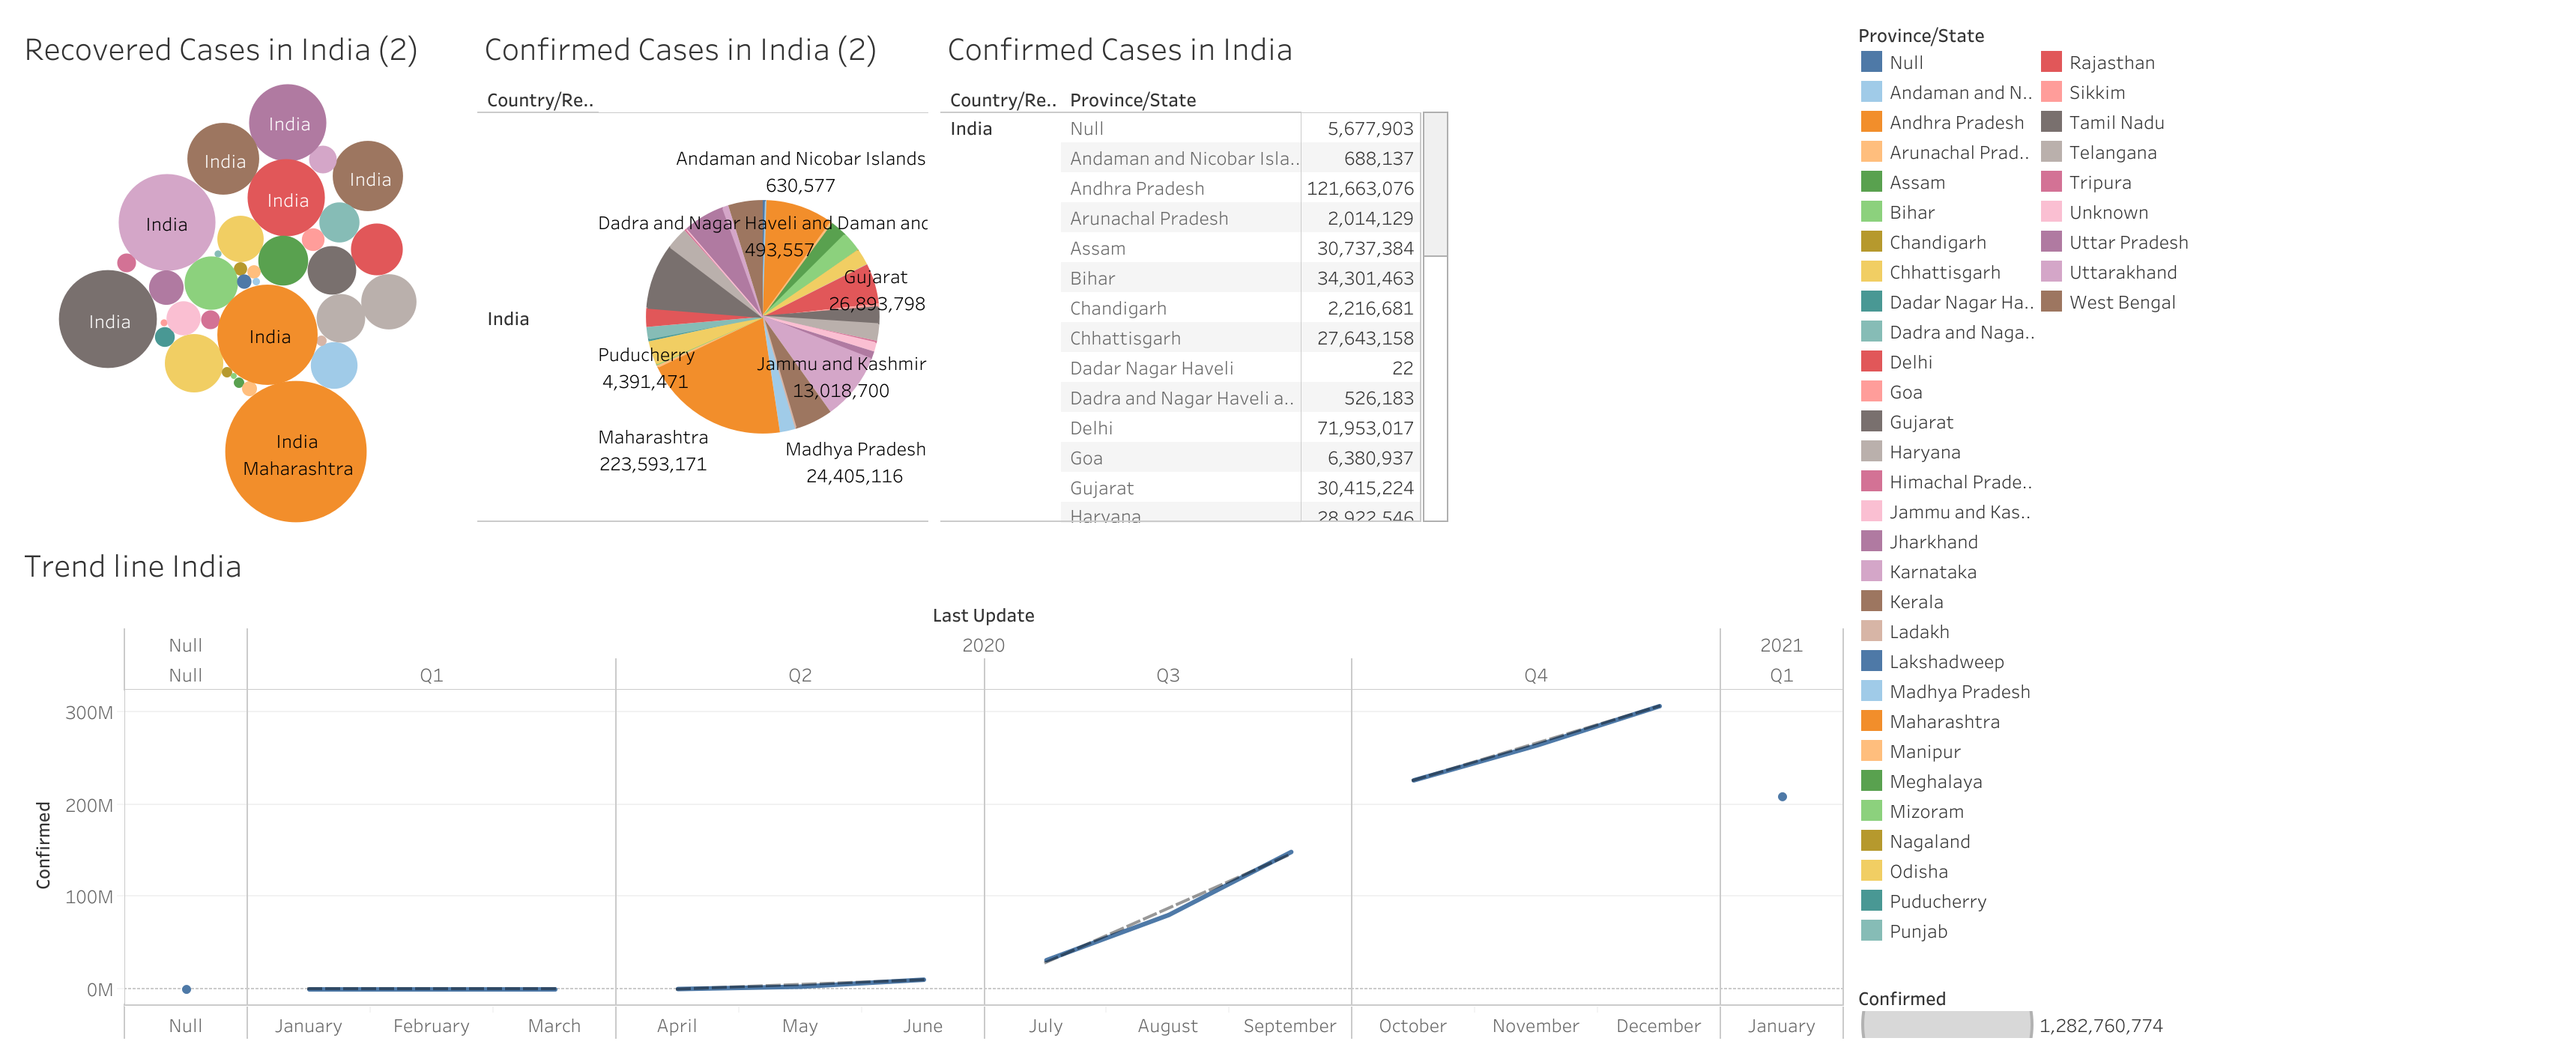

What the dashboard file says about the page in this screenshot:
{"tool":"tableau","page":{"name":"Covid 19 Indian","canvas":[1000,1000],"units":"permille","ordinal":1},"visuals":[{"type":"worksheet","title":"Recovered Cases in India (2)","mark":"Circle","box":[4.7,11,178.3,489]},{"type":"worksheet","title":"Confirmed Cases in India (2)","mark":"Pie","rows":["Country/Region"],"box":[183,11,179.7,489]},{"type":"worksheet","title":"Confirmed Cases in India","mark":"Automatic","rows":["Country/Region","Province/State"],"box":[362.7,11,355.3,489]},{"type":"legend","title":"Recovered Cases in India (2)","param":"[federated.0s7g4i900o8oap18lur8m1t1pk2w].[none:Province/State:nk]","box":[718,11,277.3,914.6]},{"type":"worksheet","title":"Trend line India","mark":"Automatic","rows":["Confirmed"],"cols":["Last Update","Last Update","Last Update"],"box":[4.7,500,713.4,489]},{"type":"legend","title":"Confirmed Cases in India (2)","param":"[federated.0s7g4i900o8oap18lur8m1t1pk2w].[sum:Confirmed:qk]","box":[718,925.6,277.3,63.4]}]}

Visuals, with their boxes on the dashboard's canvas, which has no fixed pixel size, in thousandths of its width and height (x1, y1, x2, y2). These are canvas units, not pixel positions in the 2576x1056 screenshot, which may show the page scaled, cropped or inside an application window:
"Recovered Cases in India (2)" worksheet (Circle marks): [x1=5, y1=11, x2=183, y2=500]
"Confirmed Cases in India (2)" worksheet (Pie marks): [x1=183, y1=11, x2=363, y2=500]
"Confirmed Cases in India" worksheet: [x1=363, y1=11, x2=718, y2=500]
"Recovered Cases in India (2)" legend: [x1=718, y1=11, x2=995, y2=926]
"Trend line India" worksheet: [x1=5, y1=500, x2=718, y2=989]
"Confirmed Cases in India (2)" legend: [x1=718, y1=926, x2=995, y2=989]
